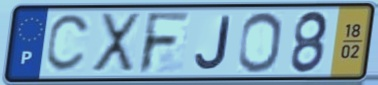8: (288, 9, 329, 76)
C: (43, 12, 94, 75)
F: (136, 10, 193, 76)
J: (193, 14, 234, 71)
O: (236, 11, 284, 75)
X: (89, 11, 143, 76)
